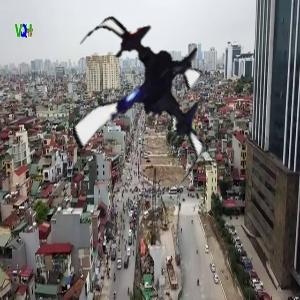drone: (51, 13, 231, 193)
